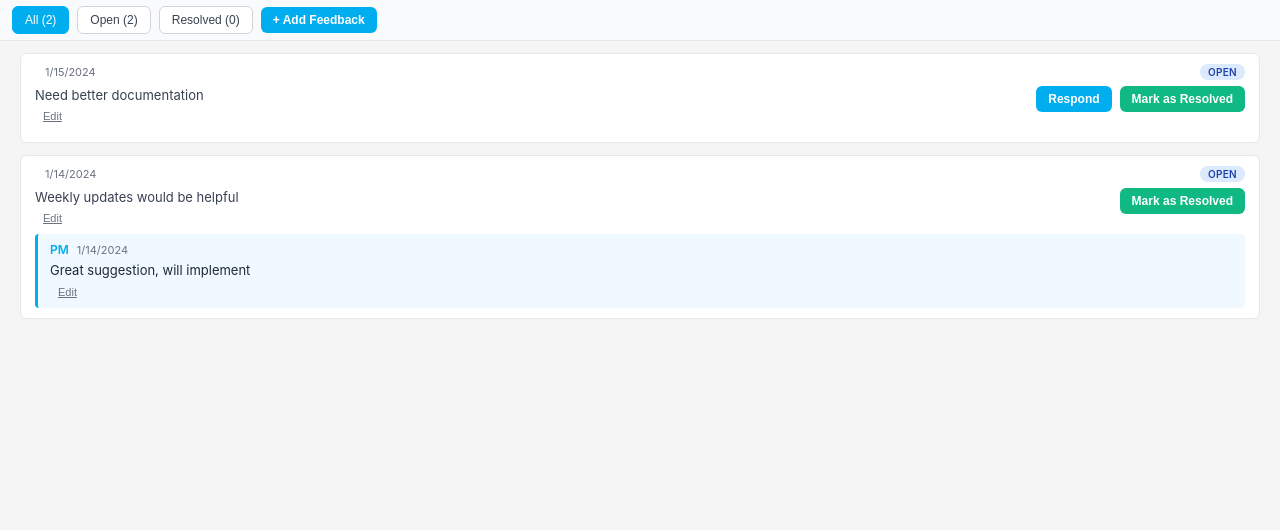
Test case: Feedback Component › Submitting Feedback › should open feedback form when add button is clicked
The width and height of the screenshot is (1280, 530).
Click the button "+ Add Feedback" at (319, 20), box [261,7,377,33]
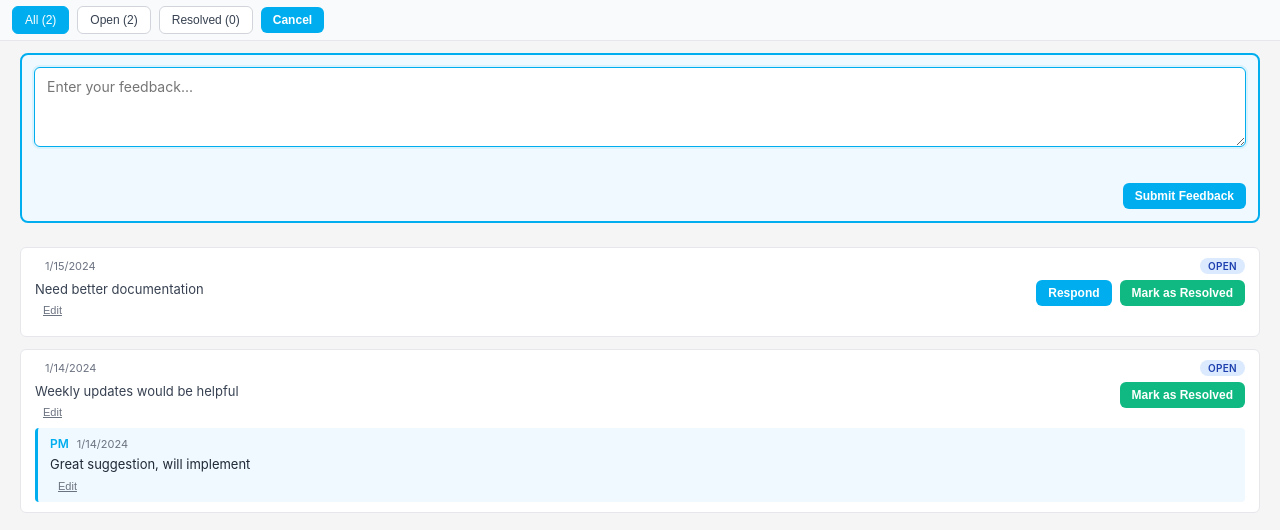
Expected: the text box with placeholder "Enter your feedback..." is shown, [34,67,1246,147]
